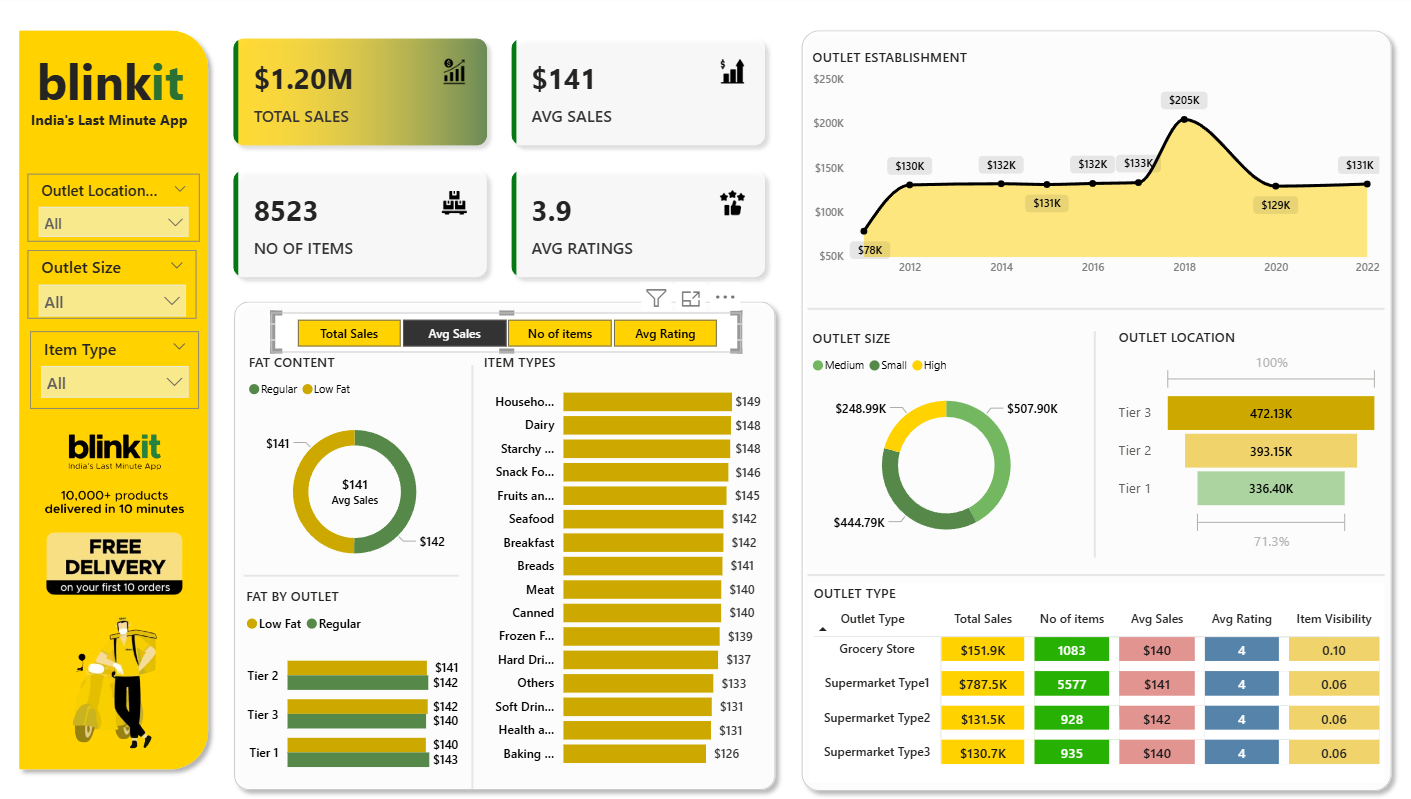

The page's visual inventory and layout, read from the dashboard file:
{"tool":"powerbi","page":{"name":"Blinkit Overview","canvas":[1400,800],"ordinal":1},"visuals":[{"type":"shape","box":[9.4,25.5,205.1,749.3],"z":0},{"type":"textbox","box":[26.8,46.9,163.5,77.7],"z":1000},{"type":"textbox","box":[22.8,108.6,171.6,36.2],"z":2000},{"type":"cardVisual","fields":{"Data":["BlinkIT Grocery Data.Total Sales","BlinkIT Grocery Data.Avg Sales","BlinkIT Grocery Data.Number of items","BlinkIT Grocery Data.Avg Rating"]},"box":[214.5,25.5,561.7,270.8],"z":3000},{"type":"shape","box":[222.5,294.9,553.6,501.3],"z":4000},{"type":"donutChart","title":"FAT CONTENT","fields":{"Y":["BlinkIT Grocery Data.NO of items"],"Category":["BlinkIT Grocery Data.Item Fat Content"]},"box":[241.3,353.9,219.8,230.6],"z":5000},{"type":"slicer","fields":{"Values":[" Metrics. Metrics"]},"box":[268.1,313.7,465.1,40.2],"z":6000},{"type":"cardVisual","fields":{"Data":["BlinkIT Grocery Data.NO of items"]},"box":[300.3,457.1,101.9,59],"z":7000},{"type":"clusteredBarChart","title":"FAT BY OUTLET","fields":{"Y":["BlinkIT Grocery Data.NO of items"],"Category":["BlinkIT Grocery Data.Outlet Location Type"],"Series":["BlinkIT Grocery Data.Item Fat Content"]},"box":[239.1,585,220,200.9],"z":8000},{"type":"shape","box":[241.3,565.7,213.1,18.8],"z":9000},{"type":"shape","box":[461.1,366,12.1,419.6],"z":10000},{"type":"barChart","title":"ITEM TYPES","fields":{"Y":["BlinkIT Grocery Data.NO of items"],"Category":["BlinkIT Grocery Data.Item Type"]},"box":[473.2,353.9,284.2,420.9],"z":11000},{"type":"shape","box":[784.2,25.5,601.9,770.8],"z":12000},{"type":"lineChart","title":"OUTLET ESTABLISHMENT ","fields":{"Category":["BlinkIT Grocery Data.Outlet Establishment Year"],"Y":["BlinkIT Grocery Data.Total Sales"]},"box":[798.9,52.3,571,234.6],"z":13000},{"type":"shape","box":[798.7,301.6,571,17.4],"z":14000},{"type":"donutChart","title":"OUTLET SIZE ","fields":{"Y":["BlinkIT Grocery Data.Total Sales"],"Category":["BlinkIT Grocery Data.Outlet Size"]},"box":[798.7,330,275,225],"z":15000},{"type":"shape","box":[1077.5,332.7,12.1,223.9],"z":16000},{"type":"funnel","title":"OUTLET LOCATION","fields":{"Y":["Sum(BlinkIT Grocery Data.Sales)"],"Category":["BlinkIT Grocery Data.Outlet Location Type"]},"box":[1101.6,328.7,268.1,226.5],"z":17000},{"type":"shape","box":[798.9,565.7,571,17.4],"z":18000},{"type":"pivotTable","title":"OUTLET TYPE","fields":{"Rows":["BlinkIT Grocery Data.Outlet Type"],"Values":["BlinkIT Grocery Data.Total Sales","BlinkIT Grocery Data.NO of items","BlinkIT Grocery Data.Avg Sales","BlinkIT Grocery Data.Avg Rating","Avg(BlinkIT Grocery Data.Item Visibility)"]},"box":[800.3,583.1,569.7,197.1],"z":19000},{"type":"slicer","fields":{"Values":["BlinkIT Grocery Data.Outlet Location Type"]},"box":[26.8,176.9,170.2,67],"z":20000},{"type":"slicer","fields":{"Values":["BlinkIT Grocery Data.Outlet Size"]},"box":[27.2,252.3,170.7,76.7],"z":21000},{"type":"slicer","fields":{"Values":["BlinkIT Grocery Data.Item Type"]},"box":[29.5,332.4,167.6,76.4],"z":22000},{"type":"image","box":[29.7,420.5,167,335.2],"z":23000}]}

Visuals, with their boxes in screenshot pixels (x1, y1, x2, y2), scaled from the page's 1400x800 canvas onto the 1411x799 screenshot:
shape: [9,25,216,774]
textbox: [27,47,192,124]
textbox: [23,108,196,145]
cardVisual - BlinkIT Grocery Data.Total Sales x BlinkIT Grocery Data.Avg Sales: [216,25,782,296]
shape: [224,295,782,795]
"FAT CONTENT" donutChart: [243,353,465,584]
slicer -  Metrics. Metrics: [270,313,739,353]
cardVisual - BlinkIT Grocery Data.NO of items: [303,457,405,515]
"FAT BY OUTLET" clusteredBarChart: [241,584,463,785]
shape: [243,565,458,584]
shape: [465,366,477,785]
"ITEM TYPES" barChart: [477,353,763,774]
shape: [790,25,1397,795]
"OUTLET ESTABLISHMENT " lineChart: [805,52,1381,287]
shape: [805,301,1380,319]
"OUTLET SIZE " donutChart: [805,330,1082,554]
shape: [1086,332,1098,556]
"OUTLET LOCATION" funnel: [1110,328,1380,555]
shape: [805,565,1381,582]
"OUTLET TYPE" pivotTable: [807,582,1381,779]
slicer - BlinkIT Grocery Data.Outlet Location Type: [27,177,199,244]
slicer - BlinkIT Grocery Data.Outlet Size: [27,252,199,329]
slicer - BlinkIT Grocery Data.Item Type: [30,332,199,408]
image: [30,420,198,755]
